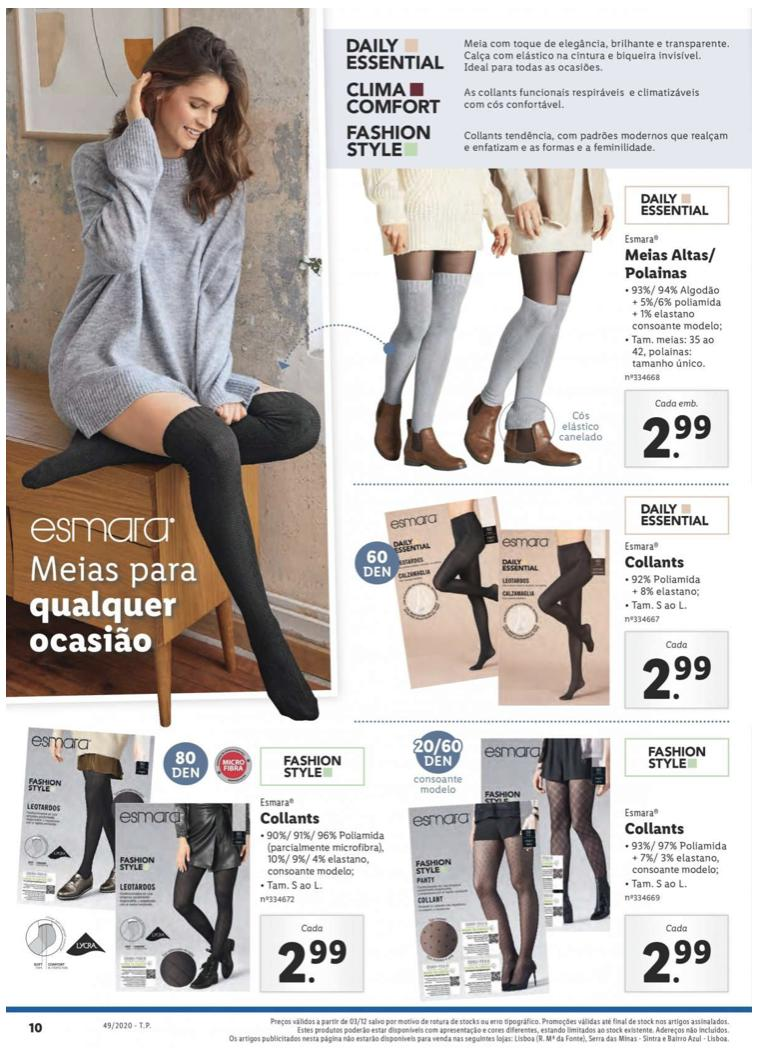name: (621, 245, 720, 281), (623, 551, 690, 573), (260, 808, 323, 830), (621, 820, 686, 841)
price: (636, 936, 717, 999), (639, 408, 716, 464), (640, 654, 714, 706), (276, 938, 349, 988)
product: (337, 168, 741, 475), (11, 726, 393, 1004), (393, 732, 751, 1004), (343, 491, 750, 715)
